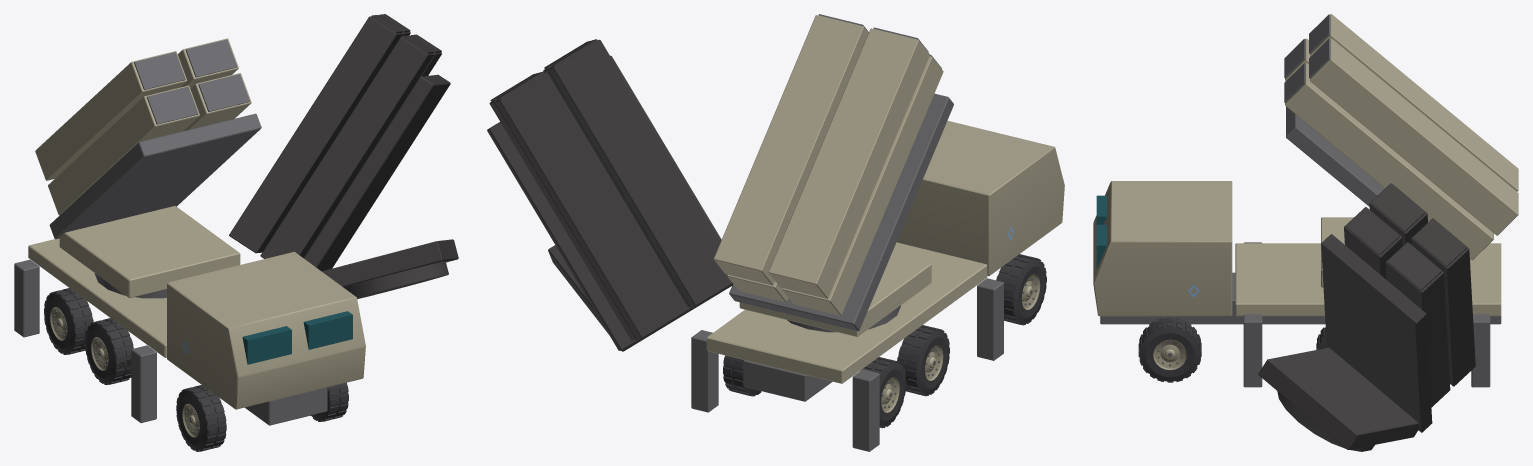
Rendered from samLauncher__rbs_70_ng_battery.glb.
The picture shows the model from 3 angles, left to right: view 1: azimuth 30°, elevation 25°; view 2: azimuth 150°, elevation 25°; view 3: azimuth 270°, elevation 25°; orthographic projection. The views are drawn at different scales.
Visible parts, largest first — view 1: Hull_Mesh, Wreck, Gun_Mesh, Turret_Mesh, Wheel_L2_Mesh, Wheel_L1_Mesh, Wheel_L0_Mesh, Wheel_R2_Mesh; view 2: Gun_Mesh, Wreck, Hull_Mesh, Turret_Mesh, Wheel_L1_Mesh, Wheel_L2_Mesh, Wheel_L0_Mesh, Wheel_R0_Mesh; view 3: Wreck, Hull_Mesh, Gun_Mesh, Wheel_R2_Mesh, Turret_Mesh.
Boxes of the visible parts, x1,y1,x2,y2 form: Hull_Mesh: (14,238,365,425); Wreck: (56,14,458,415); Gun_Mesh: (35,38,261,239); Turret_Mesh: (59,206,240,298); Wheel_L2_Mesh: (176,385,226,451); Wheel_L1_Mesh: (85,318,133,384); Wheel_L0_Mesh: (44,288,93,354); Wheel_R2_Mesh: (310,382,348,421); Gun_Mesh: (714,14,953,330); Wreck: (487,39,1029,427); Hull_Mesh: (691,120,1064,451); Turret_Mesh: (739,254,931,336); Wheel_L1_Mesh: (897,325,949,396); Wheel_L2_Mesh: (996,254,1046,325); Wheel_L0_Mesh: (860,357,906,427); Wheel_R0_Mesh: (723,355,761,396); Wreck: (1160,183,1475,451); Hull_Mesh: (1093,181,1501,387); Gun_Mesh: (1284,14,1518,263); Wheel_R2_Mesh: (1138,317,1201,382); Turret_Mesh: (1321,217,1353,287).
Size of what is drawn, in the model's own units: 7.56 by 5.84 by 7.19.
